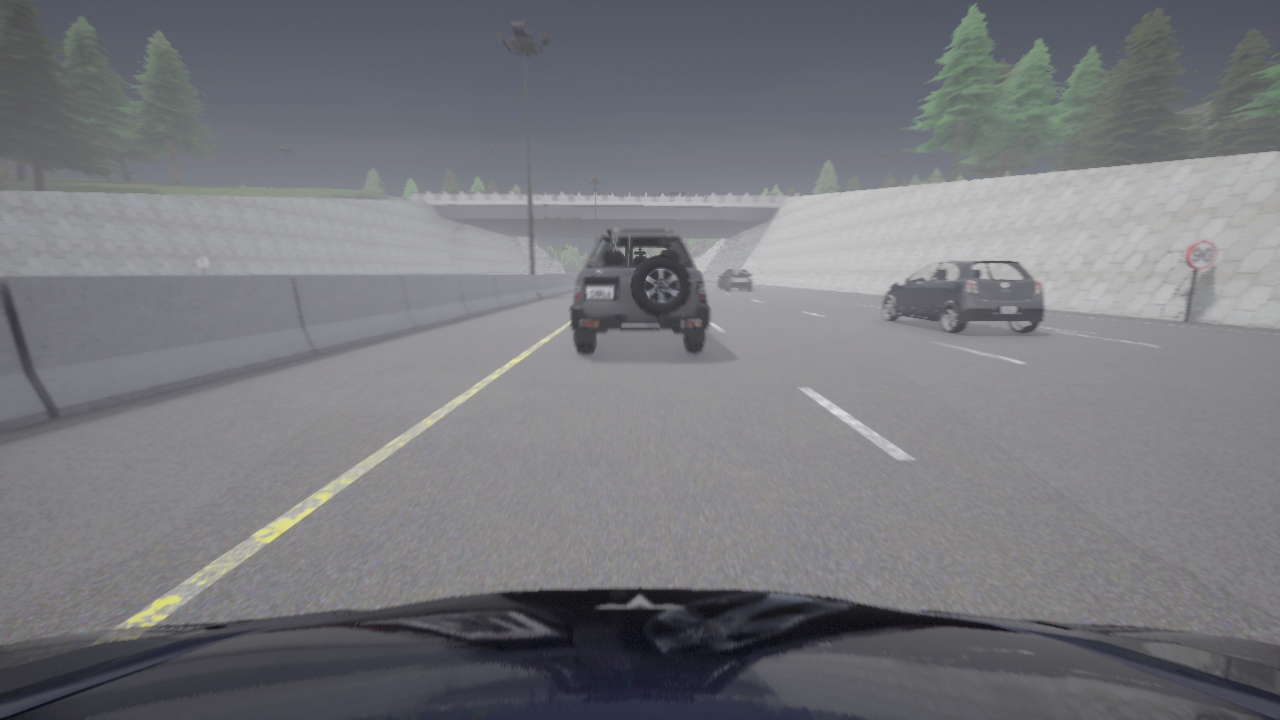cyclist: (0, 588, 1279, 719), (570, 228, 709, 352), (881, 259, 1044, 333), (718, 269, 751, 290)
